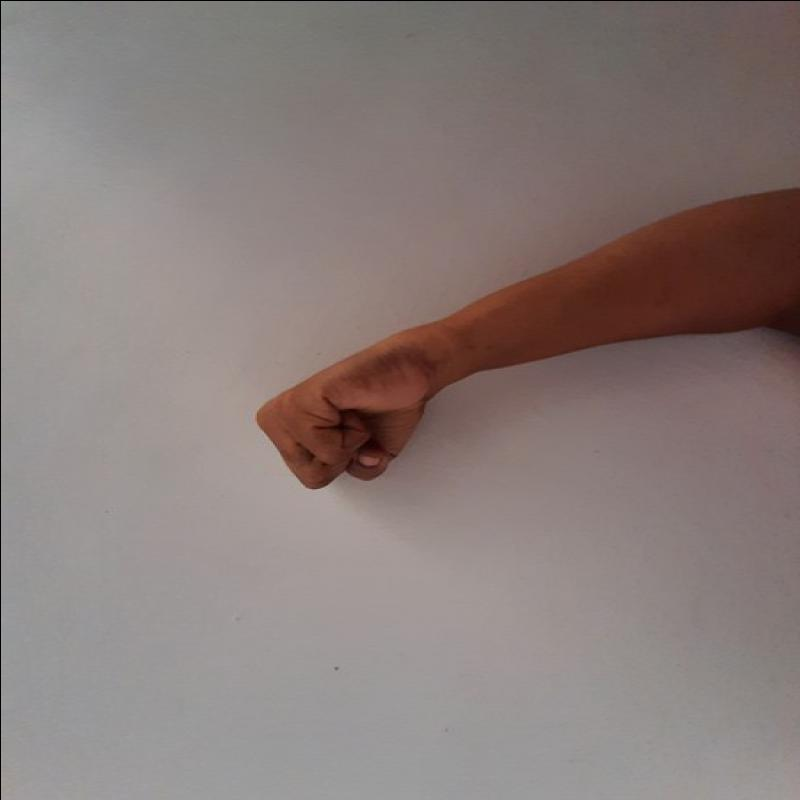Mushti: (247, 316, 439, 508)
